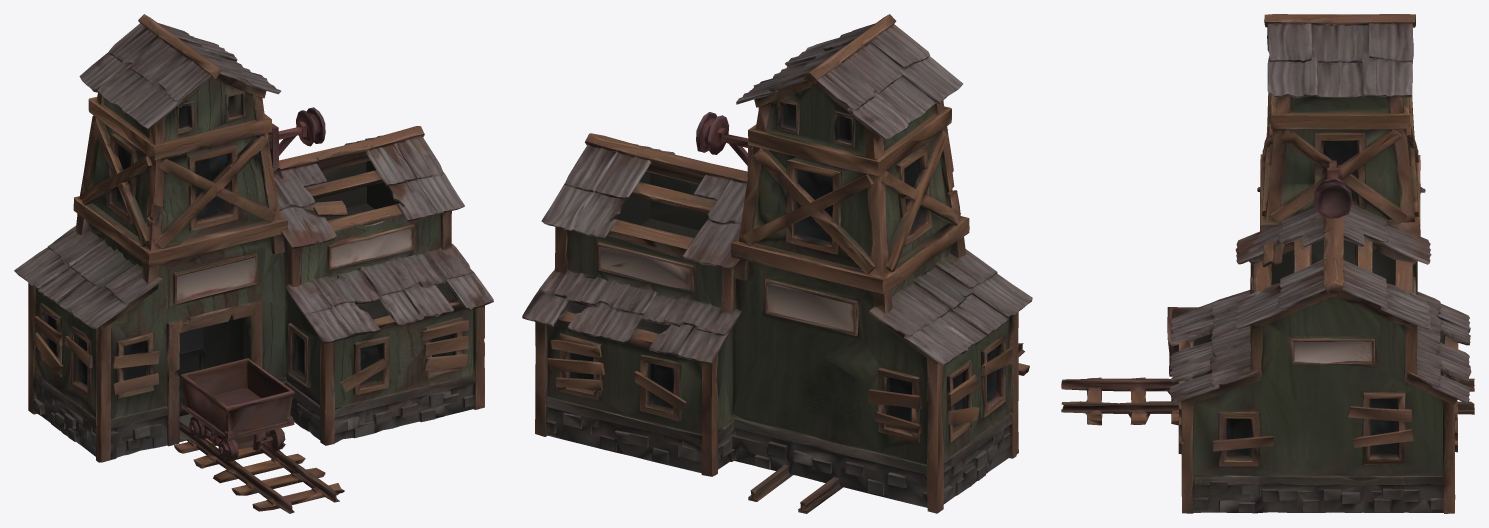
Rendered from mine_b_idle.glb.
3 renders of one model, left to right at view 1: azimuth 30°, elevation 25°; view 2: azimuth 150°, elevation 25°; view 3: azimuth 270°, elevation 25°, orthographic. The views are drawn at different scales.
Parts seen in each view (by area): view 1: tripo_node_22bfa92e-a1d3-4967-8533-ad98dd4024ff; view 2: tripo_node_22bfa92e-a1d3-4967-8533-ad98dd4024ff; view 3: tripo_node_22bfa92e-a1d3-4967-8533-ad98dd4024ff.
Part boxes in pixels (x1,y1,x2,y2): tripo_node_22bfa92e-a1d3-4967-8533-ad98dd4024ff: (14, 14, 493, 513); tripo_node_22bfa92e-a1d3-4967-8533-ad98dd4024ff: (522, 14, 1032, 513); tripo_node_22bfa92e-a1d3-4967-8533-ad98dd4024ff: (1061, 14, 1474, 513).
Bounding box in the file's own units: 14 × 13.66 × 13.14.
1 material, 1 textured.
